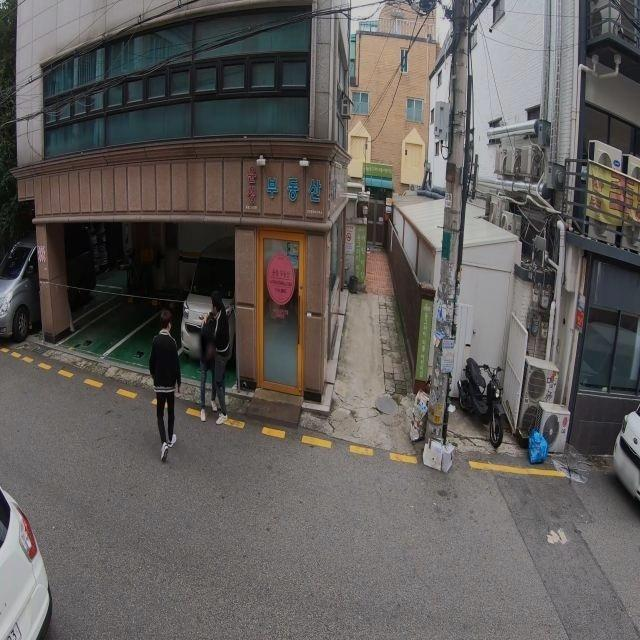fight: (194, 294, 235, 424)
non-fight: (148, 314, 184, 462)
